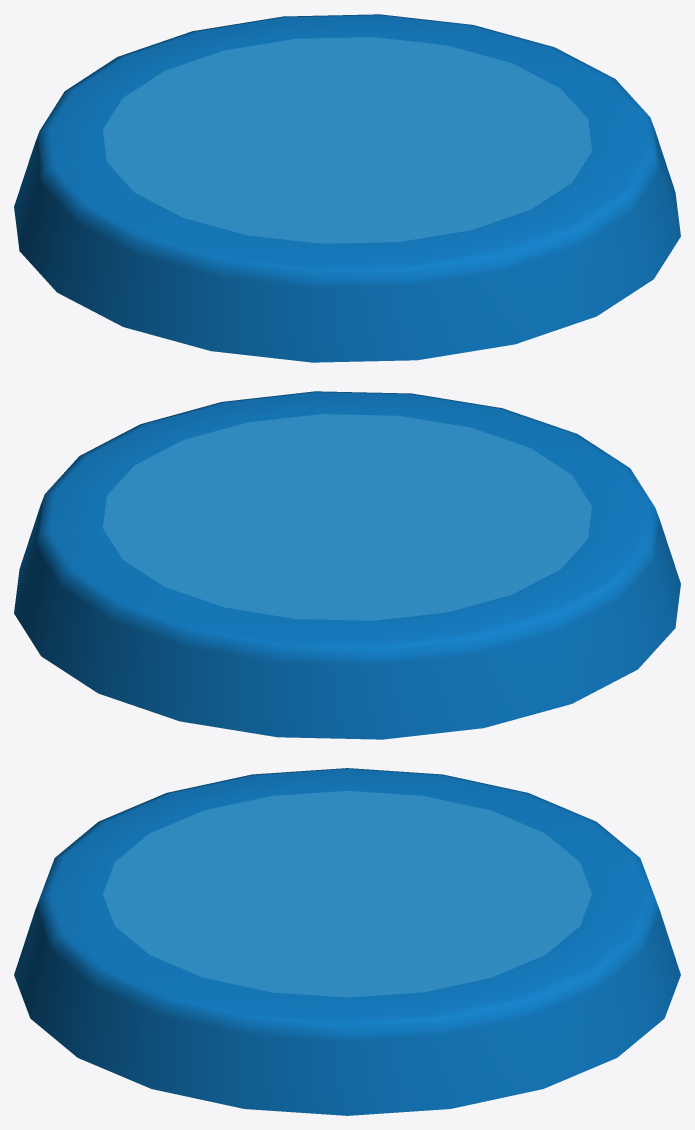
3 renders of one model, top to bottom at view 1: azimuth 30°, elevation 25°; view 2: azimuth 150°, elevation 25°; view 3: azimuth 270°, elevation 25°, orthographic.
Visible parts, largest first — view 1: Base.001; view 2: Base.001; view 3: Base.001.
Boxes of the visible parts, box(x1,y1,x2,y2) form: Base.001: box(14, 14, 680, 362); Base.001: box(14, 391, 680, 739); Base.001: box(14, 768, 680, 1115).
Bounding box in the file's own units: 0.8043 × 0.1075 × 0.8043.
1 material, 1 textured.
